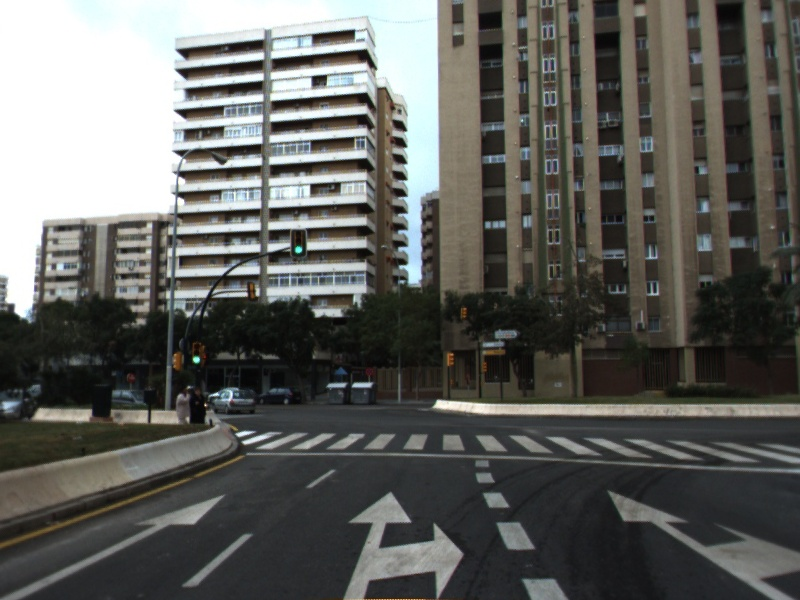STRAIGHT: (1, 489, 230, 600)
STRAIGHT_RIGHT: (602, 486, 800, 600), (338, 488, 468, 600)
